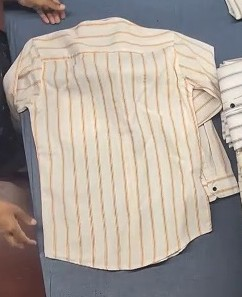SHIRT: (3, 46, 233, 220)
